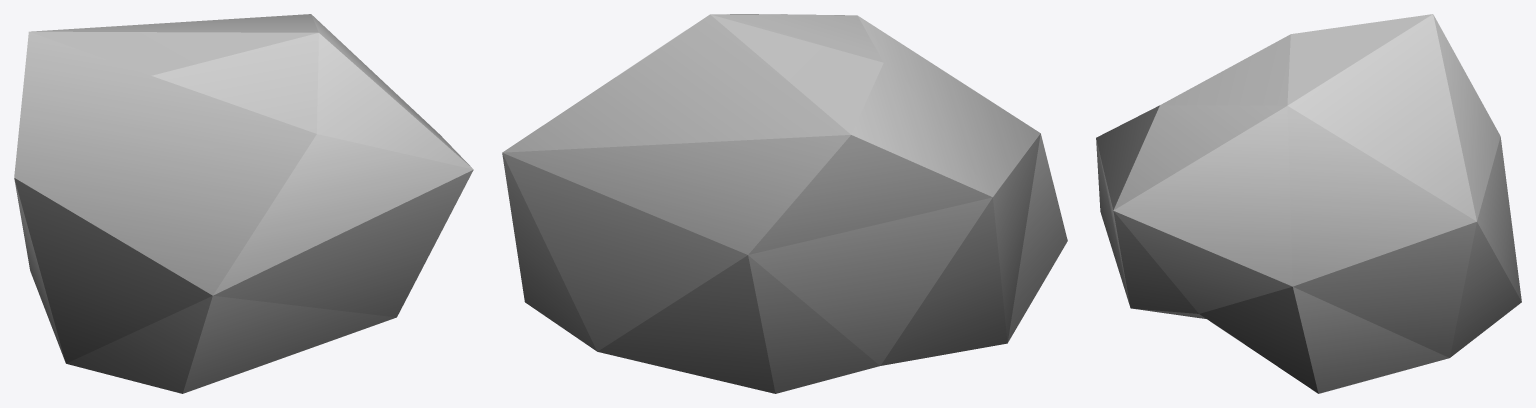
Rendered from MediumRock.FBX.
3 views of the same model, side by side, from view 1: azimuth 30°, elevation 25°; view 2: azimuth 150°, elevation 25°; view 3: azimuth 270°, elevation 25° (orthographic). The views are drawn at different scales.
Visible parts, largest first — view 1: GeoSphere001; view 2: GeoSphere001; view 3: GeoSphere001.
Boxes of the visible parts, x1,y1,x2,y2 form: GeoSphere001: (14,14,473,393); GeoSphere001: (502,14,1067,393); GeoSphere001: (1096,14,1521,393).
Size of the model in its own units: 41.52 by 24.39 by 39.63.
